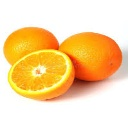orange: (6, 48, 77, 101)
